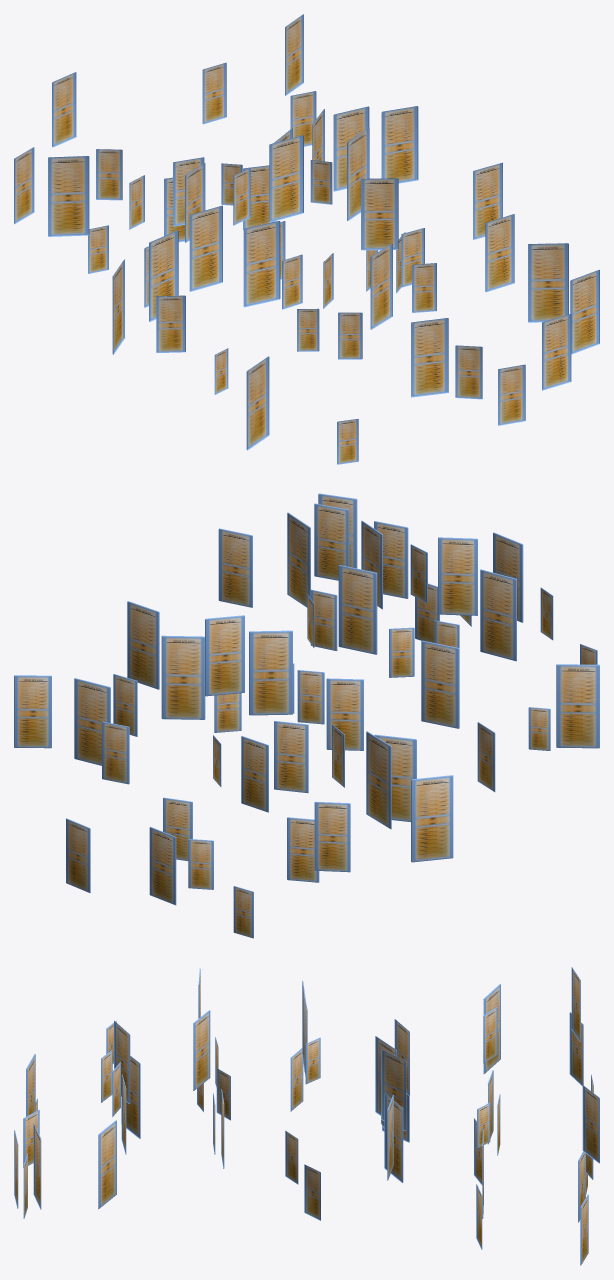
File: Servers.fbx
3 views of the same model, one above another, from view 1: azimuth 30°, elevation 25°; view 2: azimuth 150°, elevation 25°; view 3: azimuth 270°, elevation 25° (orthographic). The views are drawn at different scales.
Visible parts, largest first — view 1: Servers; view 2: Servers; view 3: Servers.
Part boxes in pixels (<box>): Servers: <box>14,14,599,464</box>; Servers: <box>14,493,599,938</box>; Servers: <box>14,967,599,1265</box>.
Bounding box in the file's own units: 2783 × 1972 × 4751.
